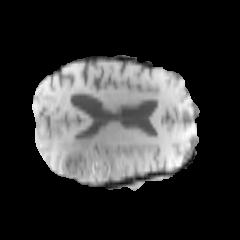glioma: (55, 132, 140, 185)
